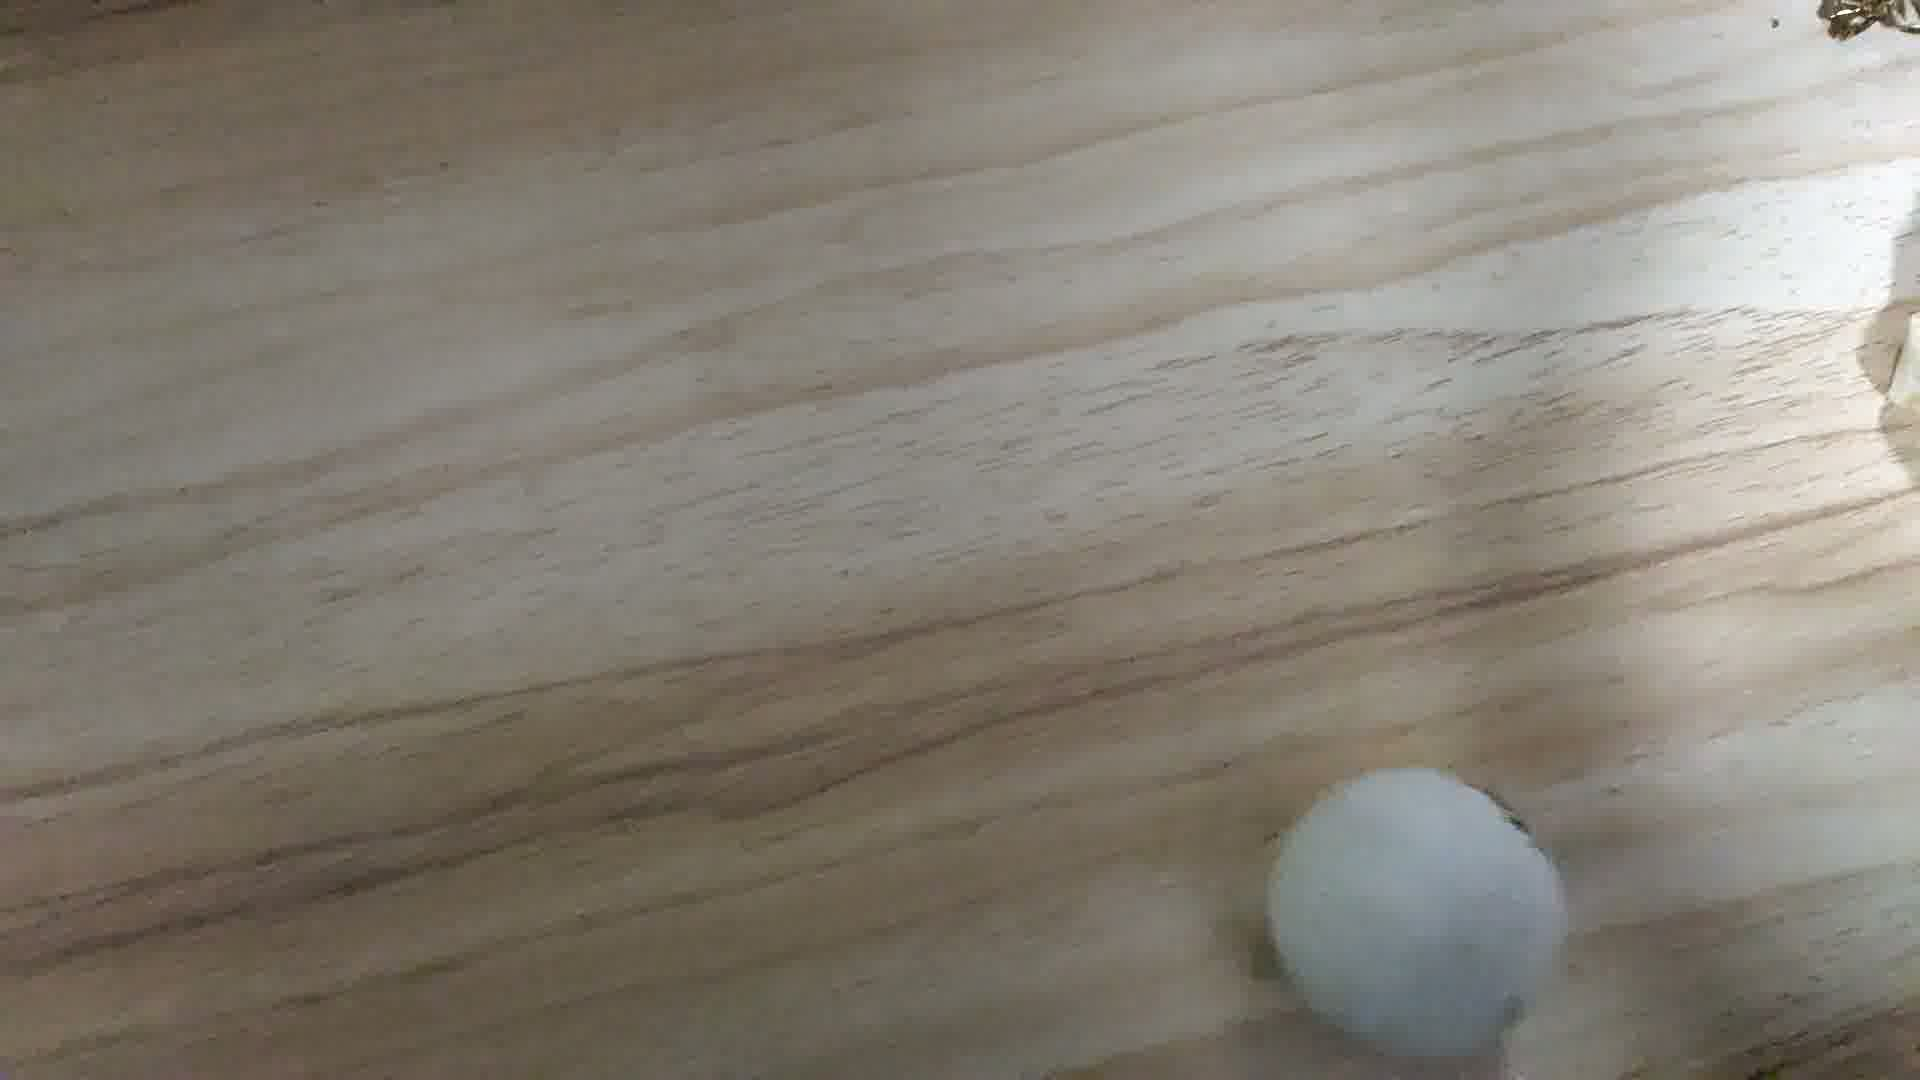Ball: (1259, 769, 1575, 1056)
